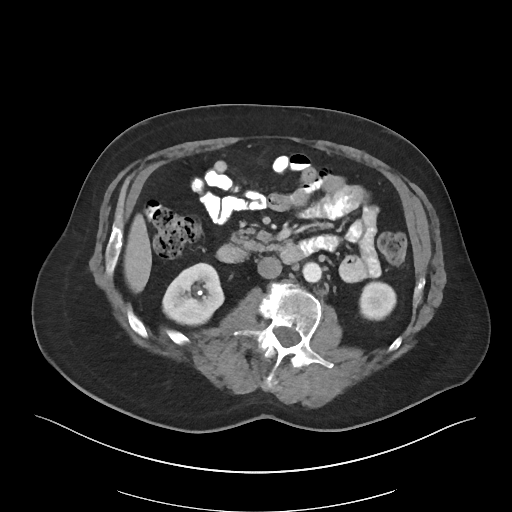Lesion: (194, 285, 205, 302)
